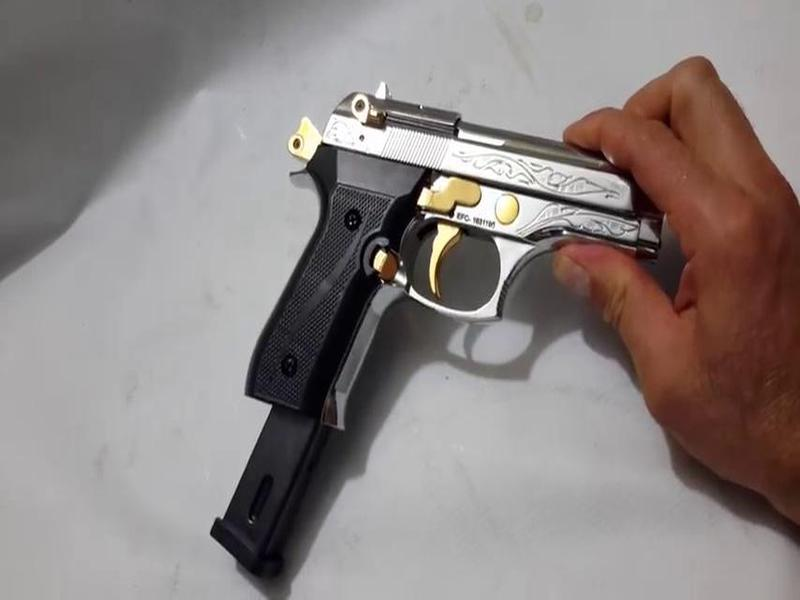Pistola: (239, 71, 698, 440)
